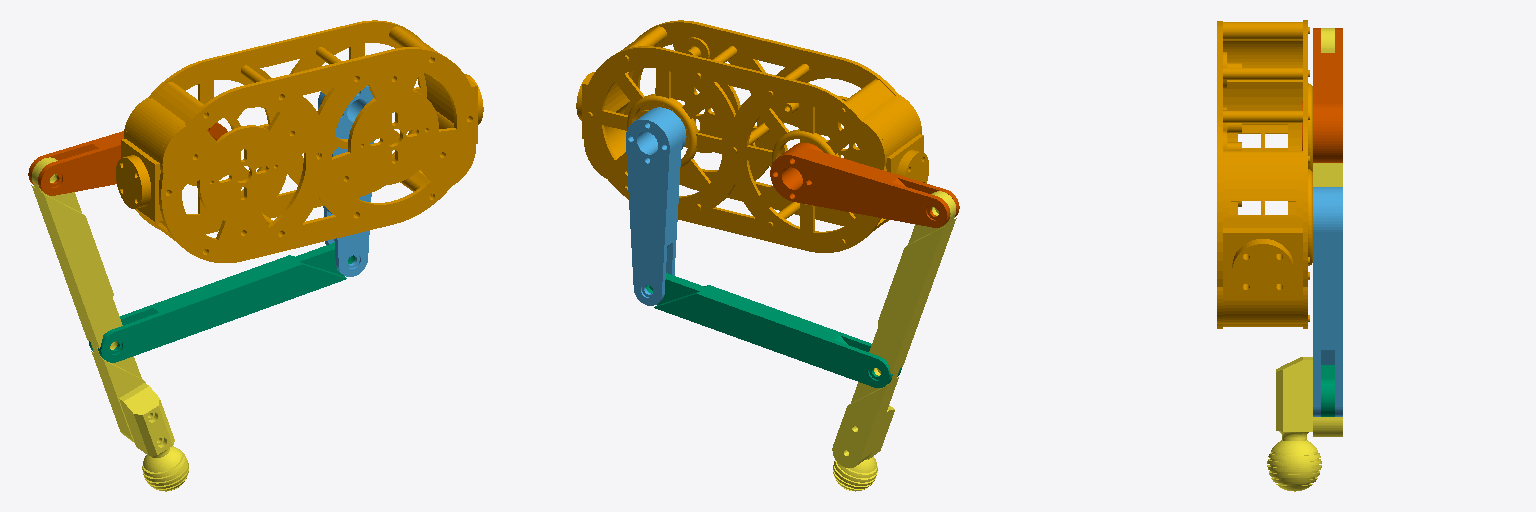
robot.urdf — single_leg:
<?xml version="1.0" ?>
<robot name="single_leg" version="1.0">
    <joint name="joint1" type="revolute">
        <limit lower="-3.14000" upper="3.14000" effort="0.00000" velocity="0.00000"/>
        <origin rpy="-1.57080 0.00000 0.00000" xyz="0.04100 0.01800 -0.00000"/>
        <parent link="link0_link"/>
        <child link="link1_link"/>
        <axis xyz="0.00000 0.00000 1.00000"/>
    </joint>
    <joint name="joint2" type="revolute">
        <limit lower="-3.14000" upper="3.14000" effort="0.00000" velocity="0.00000"/>
        <origin rpy="-0.00000 0.00000 0.00000" xyz="0.00001 0.07999 0.00825"/>
        <parent link="link1_link"/>
        <child link="link2_link"/>
        <axis xyz="0.00000 0.00000 1.00000"/>
    </joint>
    <joint name="joint3" type="revolute">
        <limit lower="-3.14000" upper="3.14000" effort="0.00000" velocity="0.00000"/>
        <origin rpy="-0.00000 0.00000 0.00000" xyz="-0.12919 0.01447 -0.00000"/>
        <parent link="link2_link"/>
        <child link="link3_link"/>
        <axis xyz="0.00000 0.00000 1.00000"/>
    </joint>
    <joint name="joint4" type="revolute">
        <limit lower="-3.14000" upper="3.14000" effort="0.00000" velocity="0.00000"/>
        <origin rpy="-0.00000 0.00000 0.00000" xyz="-0.03281 -0.09447 -0.00000"/>
        <parent link="link3_link"/>
        <child link="link4_link"/>
        <axis xyz="0.00000 0.00000 1.00000"/>
    </joint>
    <joint name="joint5" type="revolute">
        <limit lower="-3.14000" upper="3.14000" effort="0.00000" velocity="0.00000"/>
        <origin rpy="-1.57080 0.00000 0.00000" xyz="-0.04100 0.01800 0.00003"/>
        <parent link="link0_link"/>
        <child link="link4_dummy_link"/>
        <axis xyz="0.00000 0.00000 1.00000"/>
    </joint>
    <link name="link0_link">
        <visual name="link0">
            <origin rpy="0.00000 0.00000 0.00000" xyz="0.00000 0.00000 0.00000"/>
            <geometry>
                <mesh filename="../meshes/stl/link0.stl" scale="1.00000 1.00000 1.00000"/>
            </geometry>
        </visual>
        <collision name="link0_link_collision">
            <origin rpy="0.00000 0.00000 0.00000" xyz="0.00000 0.00000 0.00000"/>
            <geometry>
                <mesh filename="../meshes/stl/link0.stl" scale="1.00000 1.00000 1.00000"/>
            </geometry>
        </collision>
    </link>
    <link name="link1_link">
        <inertial>
            <inertia ixx="0.00007" ixy="-0.00000" ixz="-0.00000" iyy="0.00007" iyz="0.00000" izz="0.00000"/>
            <origin rpy="0.00000 0.00000 0.00000" xyz="0.00001 0.02888 0.00660"/>
            <mass value="0.10000"/>
        </inertial>
        <visual name="link1">
            <origin rpy="1.57080 0.00000 0.00000" xyz="0.00000 0.00000 0.00000"/>
            <geometry>
                <mesh filename="../meshes/stl/link - up_arm-8.stl" scale="1.00000 1.00000 1.00000"/>
            </geometry>
        </visual>
        <collision name="link1_link_collision">
            <origin rpy="1.57080 0.00000 0.00000" xyz="0.00000 0.00000 0.00000"/>
            <geometry>
                <mesh filename="../meshes/stl/link - up_arm-8.stl" scale="1.00000 1.00000 1.00000"/>
            </geometry>
        </collision>
    </link>
    <link name="link2_link">
        <inertial>
            <inertia ixx="0.00000" ixy="0.00000" ixz="0.00002" iyy="0.00016" iyz="-0.00000" izz="0.00015"/>
            <origin rpy="0.00000 0.00000 0.00000" xyz="-0.06461 0.00732 -0.00000"/>
            <mass value="0.10000"/>
        </inertial>
        <visual name="link2">
            <origin rpy="1.57080 0.00000 0.00000" xyz="-0.00000 -0.00000 0.00000"/>
            <geometry>
                <mesh filename="../meshes/stl/link - low_arm_rear-3.stl" scale="1.00000 1.00000 1.00000"/>
            </geometry>
        </visual>
        <collision name="link2_link_collision">
            <origin rpy="1.57080 0.00000 0.00000" xyz="-0.00000 -0.00000 0.00000"/>
            <geometry>
                <mesh filename="../meshes/stl/link - low_arm_rear-3.stl" scale="1.00000 1.00000 1.00000"/>
            </geometry>
        </collision>
    </link>
    <link name="link3_link">
        <inertial>
            <inertia ixx="0.00036" ixy="-0.00001" ixz="-0.00012" iyy="0.00040" iyz="-0.00004" izz="0.00005"/>
            <origin rpy="0.00000 0.00000 0.00000" xyz="-0.00036 -0.00045 -0.00380"/>
            <mass value="0.10000"/>
        </inertial>
        <visual name="link3">
            <origin rpy="1.57080 0.00000 0.00000" xyz="-0.00000 0.00000 0.00000"/>
            <geometry>
                <mesh filename="../meshes/stl/link - touch_part-2.stl" scale="1.00000 1.00000 1.00000"/>
            </geometry>
        </visual>
        <collision name="link3_link_collision">
            <origin rpy="1.57080 0.00000 0.00000" xyz="-0.00000 0.00000 0.00000"/>
            <geometry>
                <mesh filename="../meshes/stl/link - touch_part-2.stl" scale="1.00000 1.00000 1.00000"/>
            </geometry>
        </collision>
    </link>
    <link name="link4_dummy_link">
    </link>
    <link name="link4_link">
        <inertial>
            <inertia ixx="0.00000" ixy="-0.00000" ixz="0.00000" iyy="0.00007" iyz="-0.00000" izz="0.00007"/>
            <origin rpy="0.00000 0.00000 0.00000" xyz="0.07999 -0.00001 -0.00825"/>
            <mass value="0.10000"/>
        </inertial>
        <visual name="link4">
            <origin rpy="1.57080 0.00000 0.00000" xyz="0.00000 0.00000 -0.00000"/>
            <geometry>
                <mesh filename="../meshes/stl/link - up_arm-5.stl" scale="1.00000 1.00000 1.00000"/>
            </geometry>
        </visual>
        <collision name="link4_link_collision">
            <origin rpy="1.57080 0.00000 0.00000" xyz="0.00000 0.00000 -0.00000"/>
            <geometry>
                <mesh filename="../meshes/stl/link - up_arm-5.stl" scale="1.00000 1.00000 1.00000"/>
            </geometry>
        </collision>
    </link>
</robot>

--- What the picture shows (computed from the rendered views, not written in the file) ---
The picture shows the robot from 3 angles, left to right: view 1: azimuth 30°, elevation 25°; view 2: azimuth 150°, elevation 25°; view 3: azimuth 270°, elevation 25°; orthographic projection.
Robot: single_leg — 6 links, 5 joints (5 revolute); root link link0_link; default pose: every joint at zero.
Links seen in each view (by area): view 1: link0_link, link3_link, link2_link, link4_link, link1_link; view 2: link0_link, link3_link, link2_link, link1_link, link4_link; view 3: link0_link, link3_link, link1_link, link4_link, link2_link.
Link boxes in pixels (bbox=[...]): link0_link: bbox=[116, 20, 483, 262]; link3_link: bbox=[31, 157, 188, 491]; link2_link: bbox=[89, 242, 354, 362]; link4_link: bbox=[28, 122, 227, 195]; link1_link: bbox=[318, 86, 374, 276]; link0_link: bbox=[576, 20, 928, 252]; link3_link: bbox=[832, 191, 956, 491]; link2_link: bbox=[646, 273, 901, 387]; link1_link: bbox=[626, 107, 686, 305]; link4_link: bbox=[770, 143, 959, 227]; link0_link: bbox=[1217, 20, 1312, 328]; link3_link: bbox=[1267, 28, 1342, 491]; link1_link: bbox=[1313, 187, 1342, 416]; link4_link: bbox=[1302, 28, 1342, 162]; link2_link: bbox=[1321, 365, 1334, 416].
Bounding box of the posed robot: 0.2219 × 0.0508 × 0.2156 m (x, y, z).
Meshes: 5 distinct files referenced, 5 mesh visuals loaded (5 binary STL).